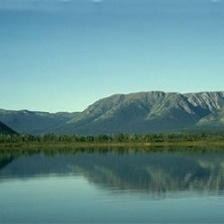neutral: (1, 87, 224, 169)
